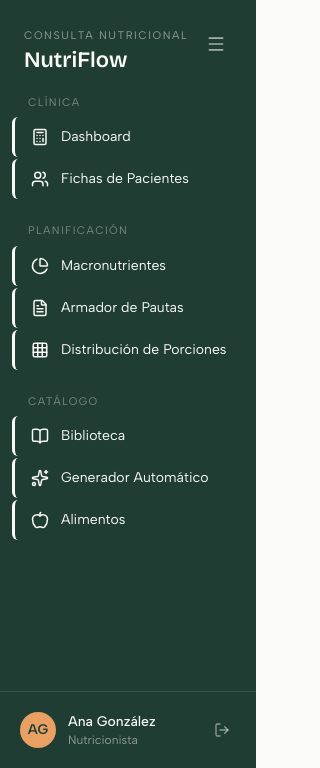
Scenario: Sidebar › collapse / expand › colapsar oculta el título NutriFlow
The image size is (320, 768).
Click the button named "Colapsar menú". click: (216, 44)
box: [200, 28, 232, 60]
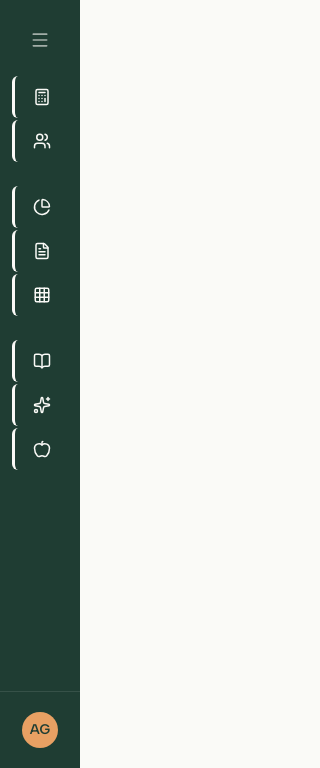
Now the heading "NutriFlow" is gone
